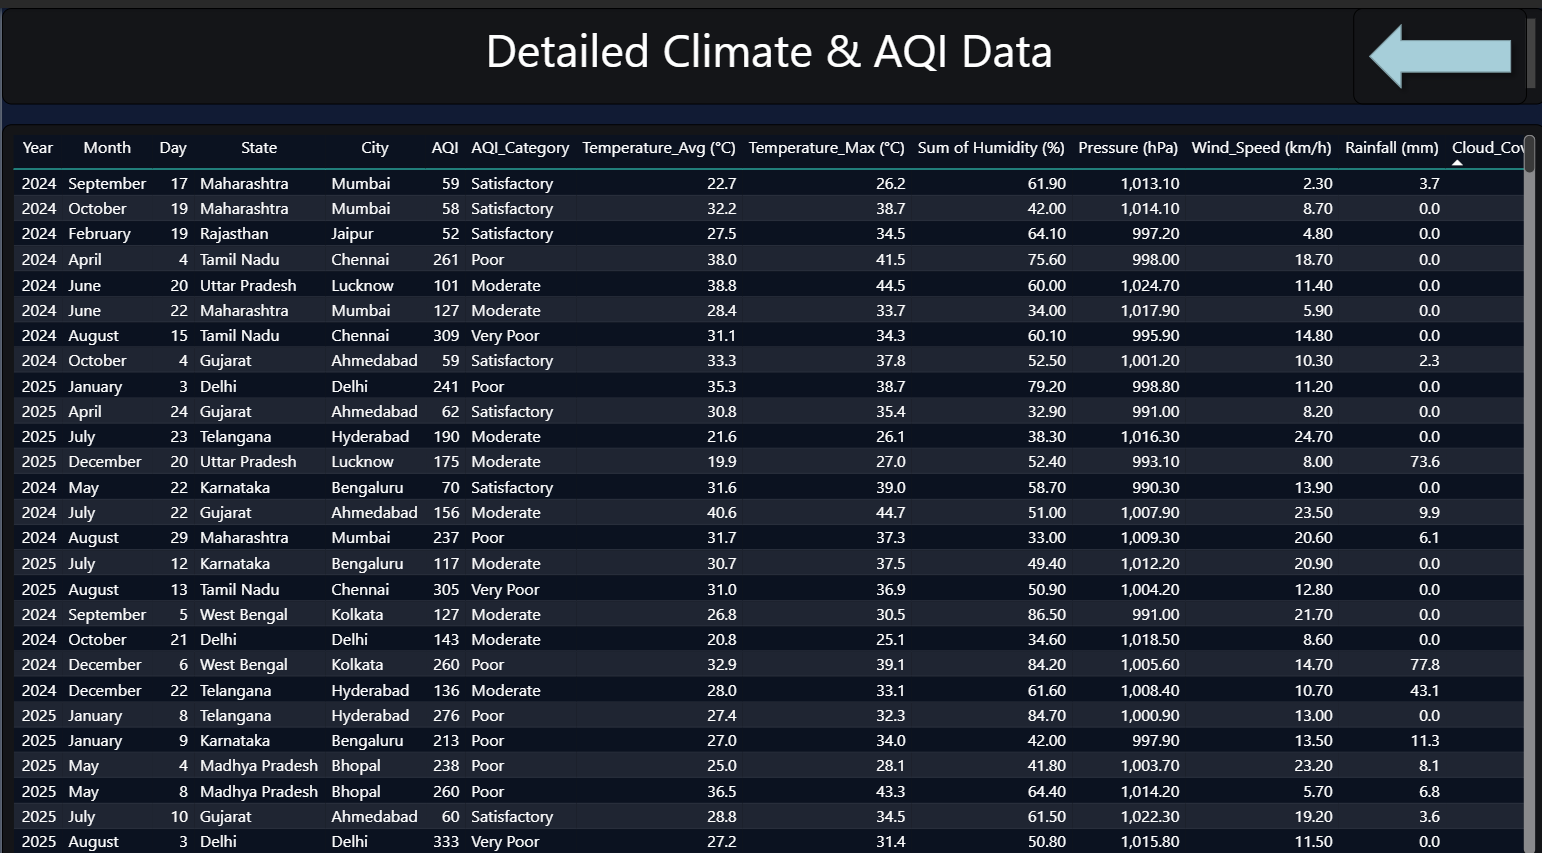

This screenshot's page, from the dashboard's own definition file:
{"tool":"powerbi","page":{"name":"Detailed Data Table","canvas":[1280,720],"ordinal":3},"visuals":[{"type":"textbox","box":[0,0,1280,80],"z":0},{"type":"tableEx","fields":{"Values":["Indian_Climate_Dataset_2024_2025.Date.Variation.Date Hierarchy.Year","Indian_Climate_Dataset_2024_2025.Date.Variation.Date Hierarchy.Month","Indian_Climate_Dataset_2024_2025.Date.Variation.Date Hierarchy.Day","Indian_Climate_Dataset_2024_2025.State","Indian_Climate_Dataset_2024_2025.City","Indian_Climate_Dataset_2024_2025.AQI","Indian_Climate_Dataset_2024_2025.AQI_Category","Indian_Climate_Dataset_2024_2025.Temperature_Avg (°C)","Indian_Climate_Dataset_2024_2025.Temperature_Max (°C)","Sum(Indian_Climate_Dataset_2024_2025.Humidity (%))","Indian_Climate_Dataset_2024_2025.Wind_Speed (km/h)","Indian_Climate_Dataset_2024_2025.Rainfall (mm)"]},"box":[0,96,1280,624],"z":1000},{"type":"shape","box":[1120,0,144,80],"z":2000}]}

Visuals, with their boxes in screenshot pixels (x1, y1, x2, y2), scaled from the page's 1280x720 canvas onto the 1542x853 screenshot:
textbox: [0, 0, 1541, 95]
tableEx - Indian_Climate_Dataset_2024_2025.Date.Variation.Date Hierarchy.Year x Indian_Climate_Dataset_2024_2025.Date.Variation.Date Hierarchy.Month: [0, 114, 1541, 852]
shape: [1349, 0, 1523, 95]
